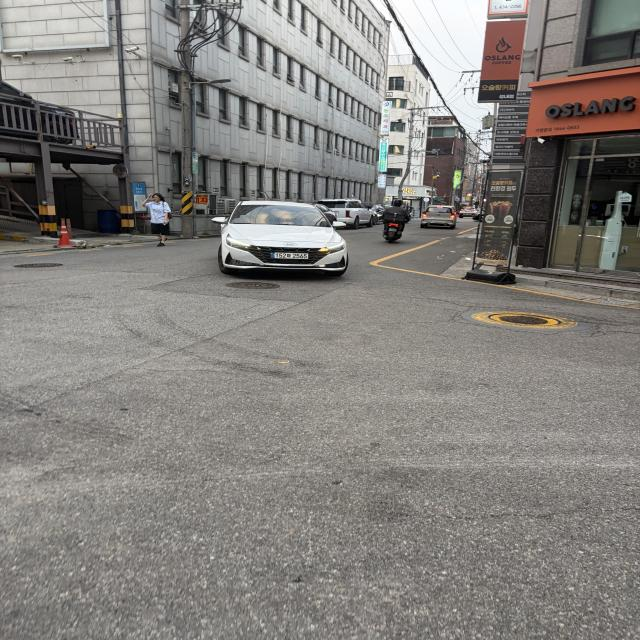car: (209, 194, 374, 298), (414, 202, 464, 235)
motorcycle: (378, 198, 416, 245)
